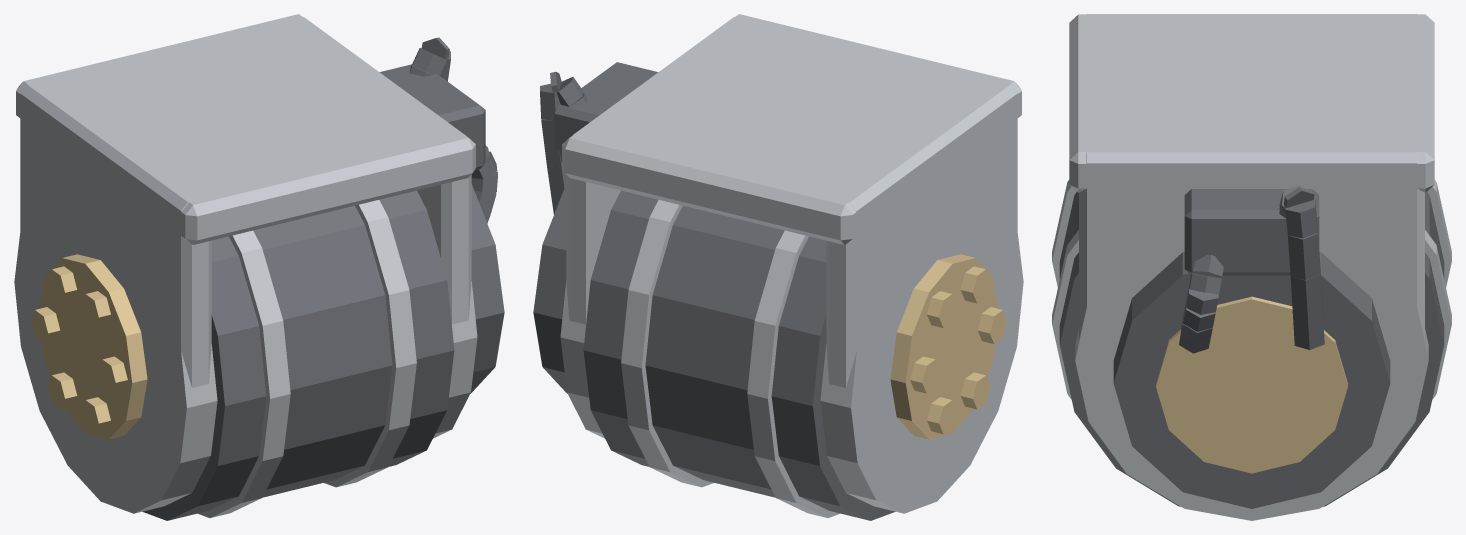
File: bastion.bend.glb
The picture shows the model from 3 angles, left to right: view 1: azimuth 30°, elevation 25°; view 2: azimuth 150°, elevation 25°; view 3: azimuth 270°, elevation 25°; orthographic projection. The views are drawn at different scales.
Size of the model in its own units: 1.05 by 0.9488 by 0.884.
